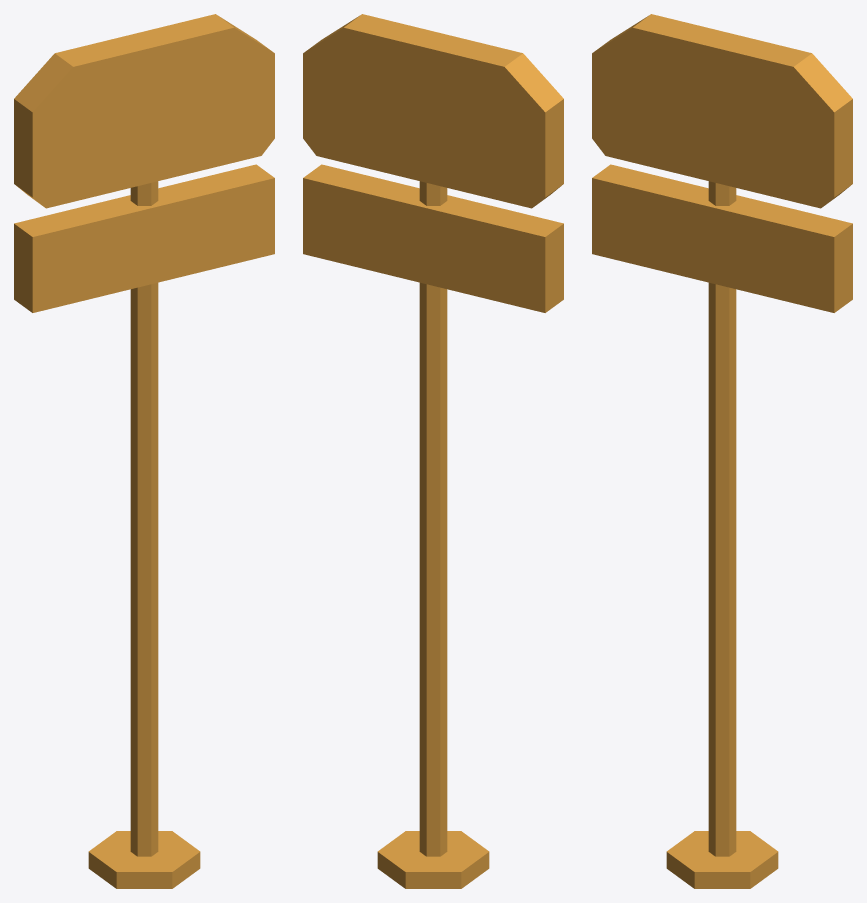
Rendered from burger-joint-sign.glb.
The picture shows the model from 3 angles, left to right: view 1: azimuth 30°, elevation 25°; view 2: azimuth 150°, elevation 25°; view 3: azimuth 330°, elevation 25°; orthographic projection.
Visible parts, largest first — view 1: burger-joint-sign; view 2: burger-joint-sign; view 3: burger-joint-sign.
Boxes of the visible parts, x1=… form: burger-joint-sign: x1=14, y1=14, x2=274, y2=888; burger-joint-sign: x1=303, y1=14, x2=563, y2=888; burger-joint-sign: x1=592, y1=14, x2=852, y2=888.
Bounding box in the file's own units: 3 × 9.8 × 1.2.
